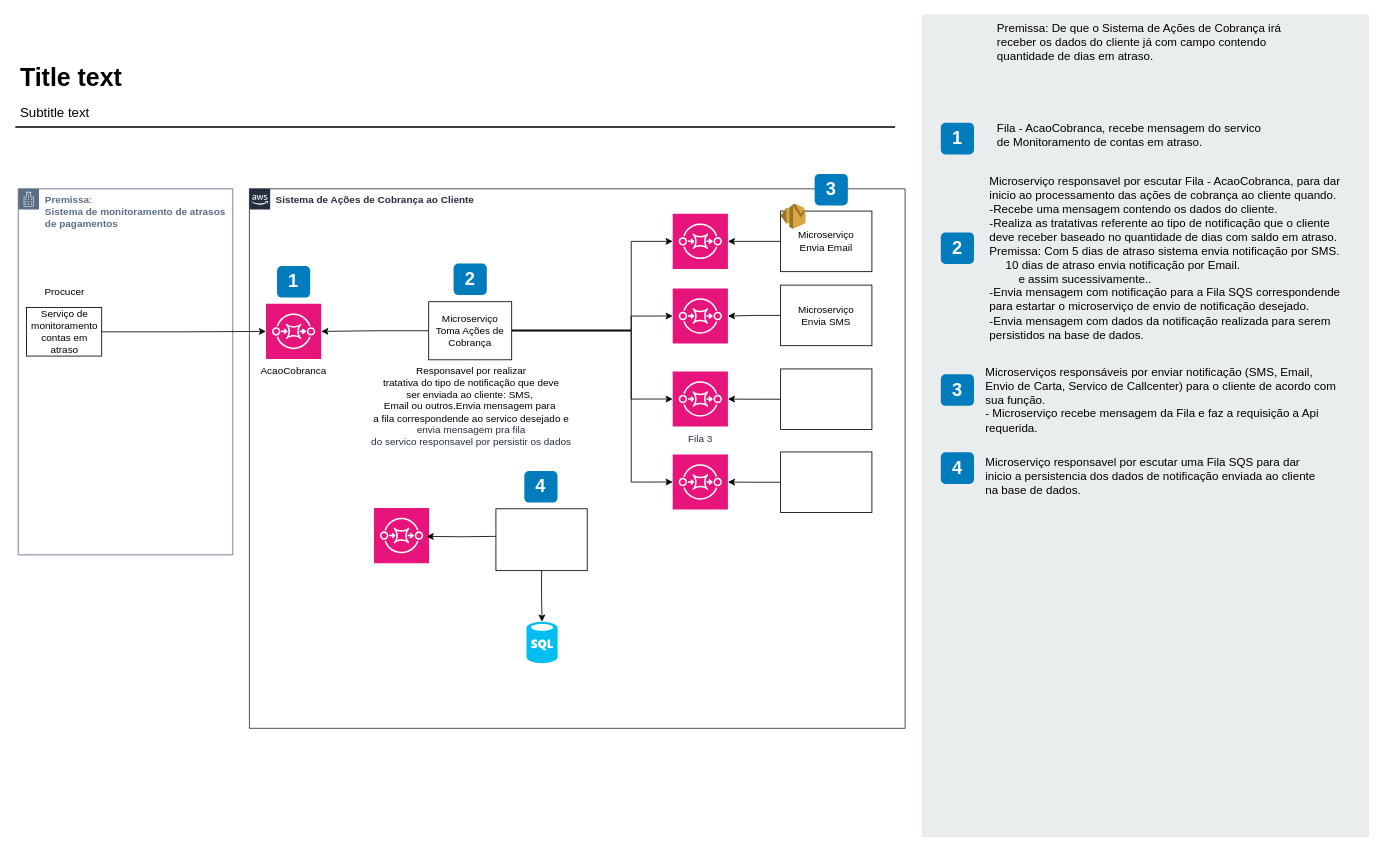
This 1383x851 diagram has some shape labels left out. The centre of each missing label's shape, as x and y in pixels:
"Fila 1" belongs at [700,241].
"Fila 2" belongs at [700,316].
"Fila 4" belongs at [700,482].
"mensagem com dados de notif do cliente" belongs at [401,535].
"Microservico aciona Callcenter" belongs at [826,482].
"Microservico Aciona servico de envio de Carta" belongs at [826,399].
"Microserviço persiste os dados das notificações enviadas ao cliente" belongs at [541,539].
